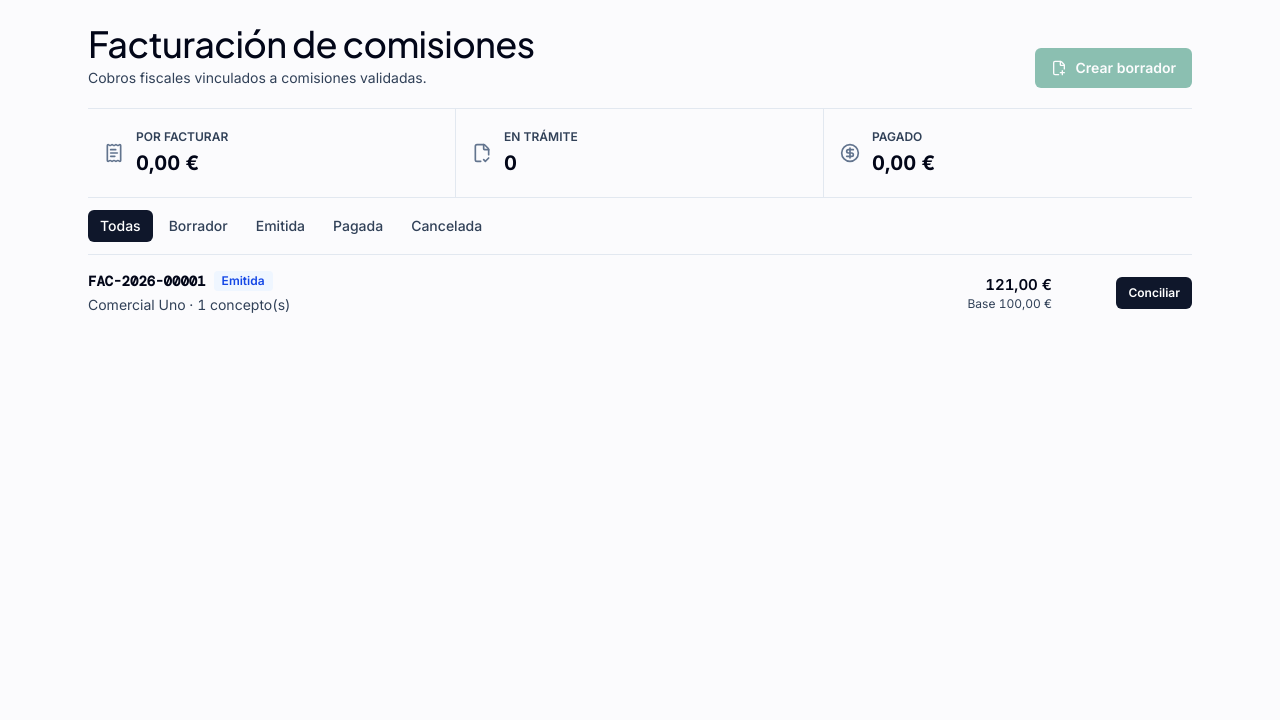
FiscalInvoicingWorkspace › reserves payment reconciliation for admin on issued invoices
The image size is (1280, 720).
Click the button "Conciliar".
click(1154, 293)  # box [1116,277,1192,309]
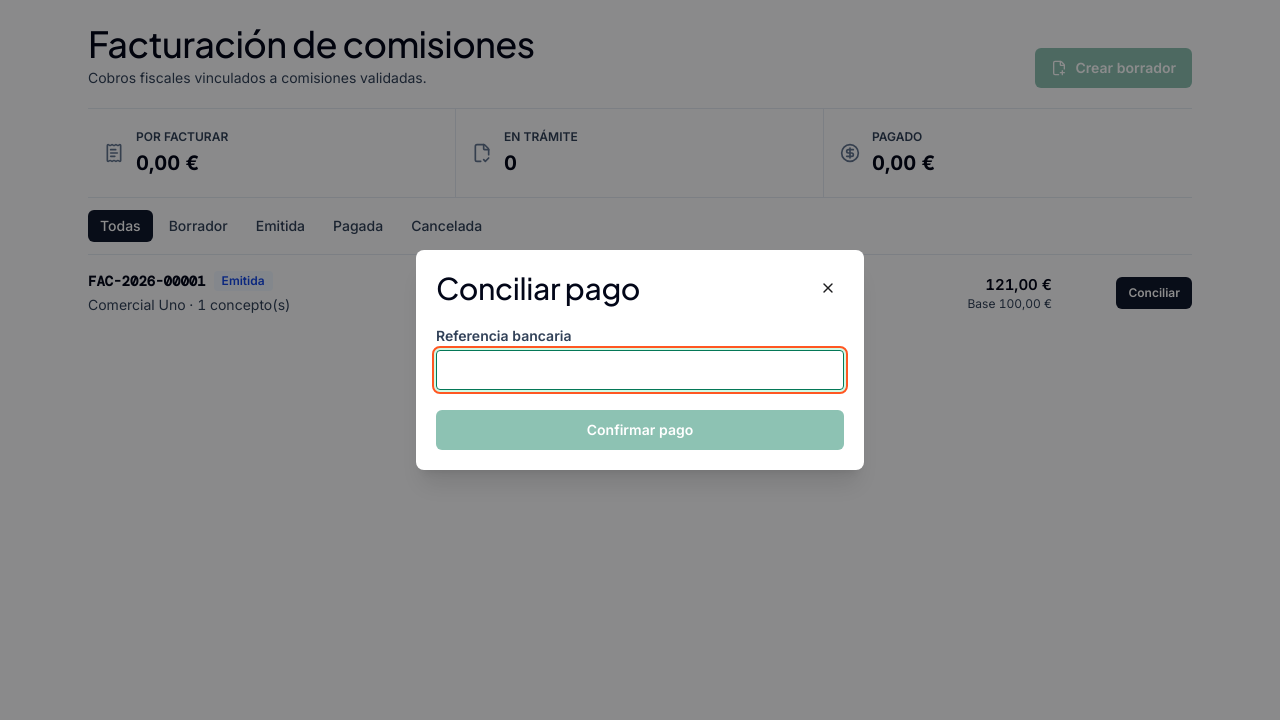
expect the dialog "Conciliar pago" is shown: met, box [416,250,864,470]
expect the button "Confirmar pago" is disabled: met, box [436,410,844,450]
Type "TRX-001" into the field labelled "Referencia bancaria".
click(640, 370); type("TRX-001")  # box [436,350,844,390]
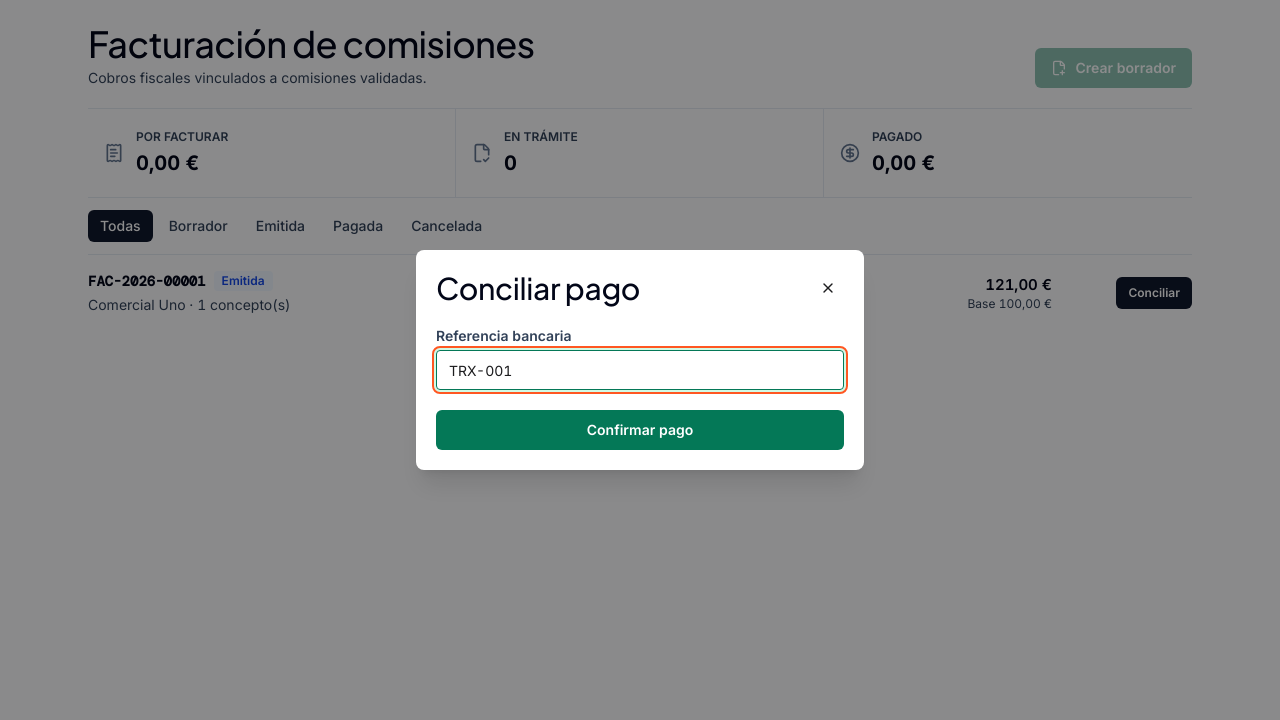
expect the button "Confirmar pago" is enabled: met, box [436,410,844,450]
